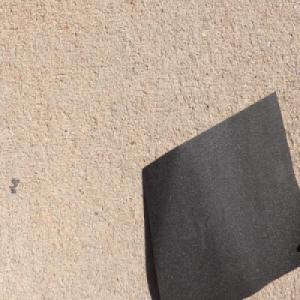PaintChip: (140, 89, 300, 300)
